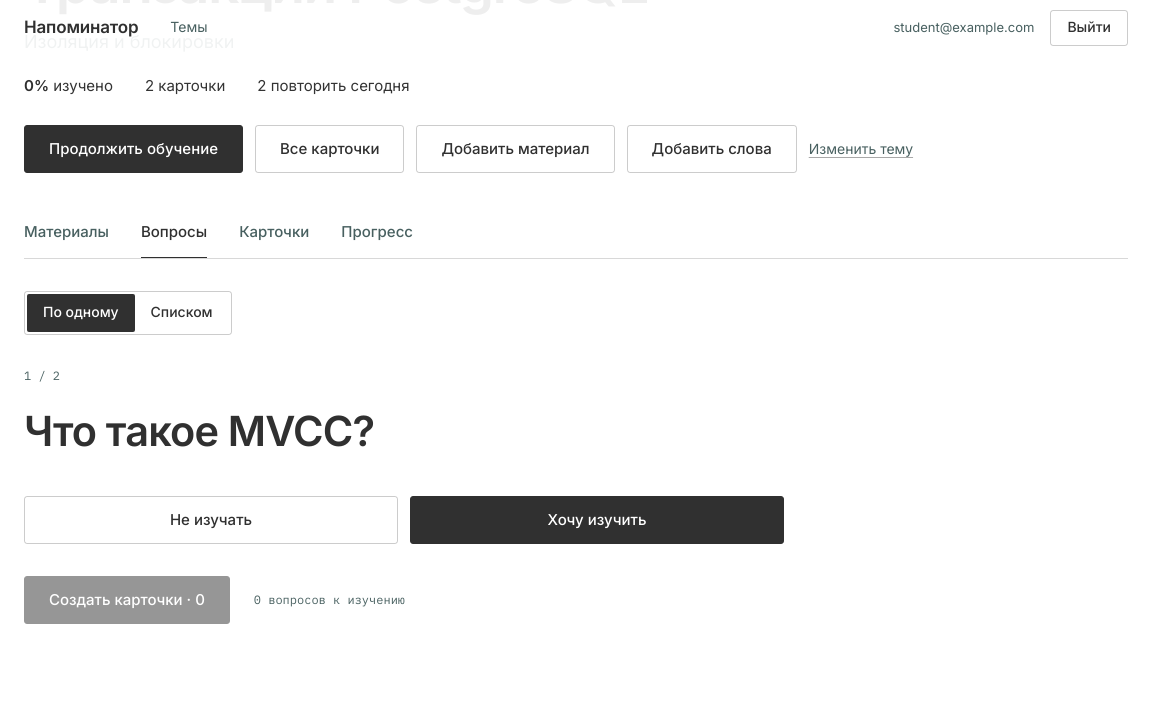
Test: Экран вопросов › не отправляет второе решение, пока первое не вернулось
(page scrolled)
Click the button "Хочу изучить". click: click(597, 520)
box: [410, 496, 784, 544]
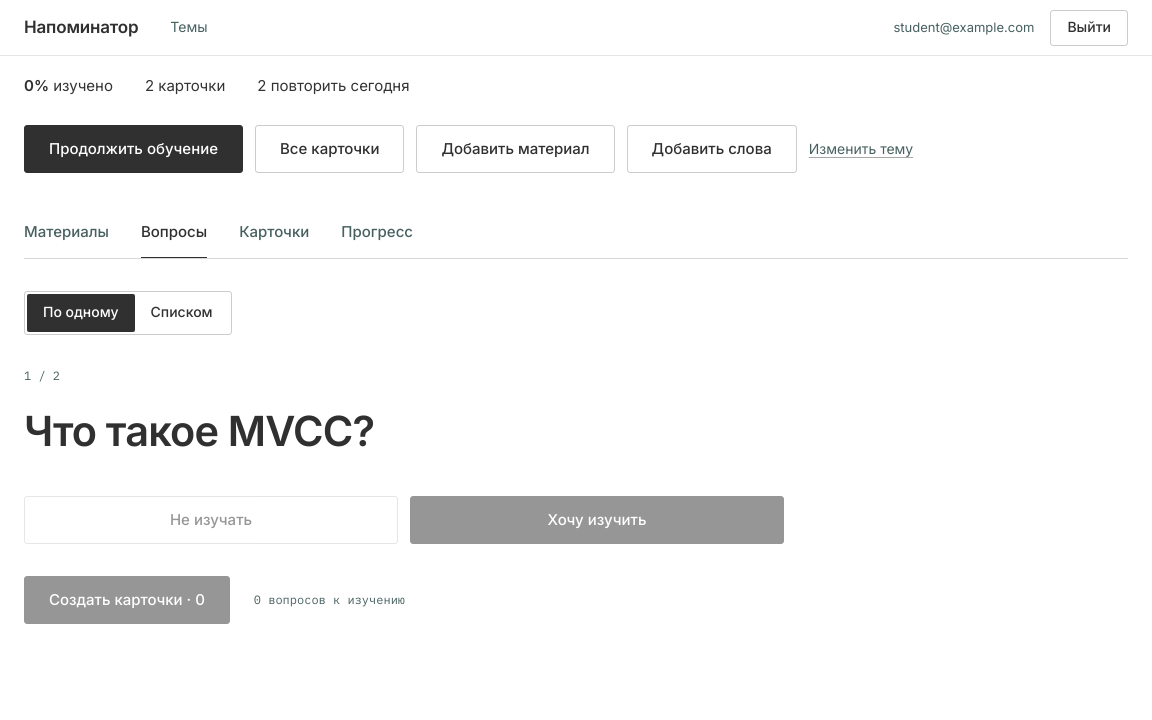
Click the button "Хочу изучить". click: click(597, 520)
box: [410, 496, 784, 544]
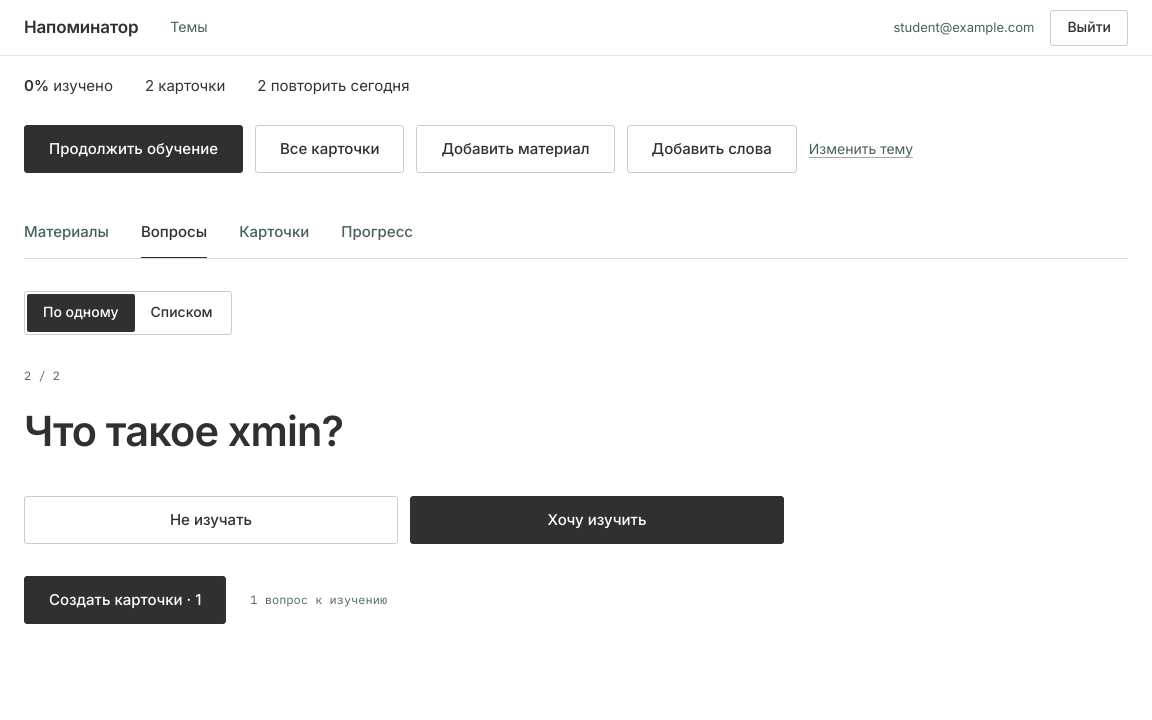
Check: the heading "Что такое xmin?" is shown, box [24, 406, 343, 456]
Check: the text "Что такое xmin?" shows "2 / 2", box [24, 367, 784, 544]
